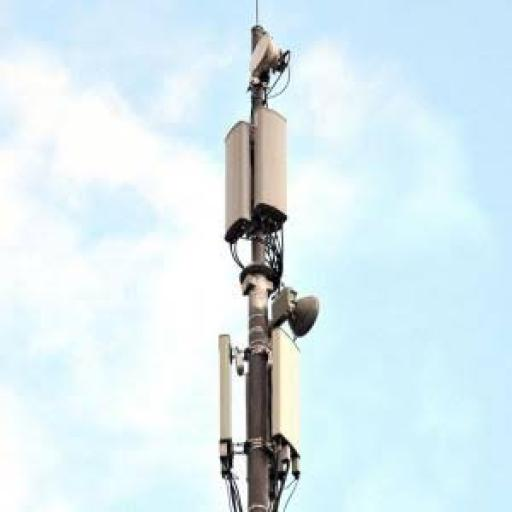odn_pole: (218, 0, 320, 510)
